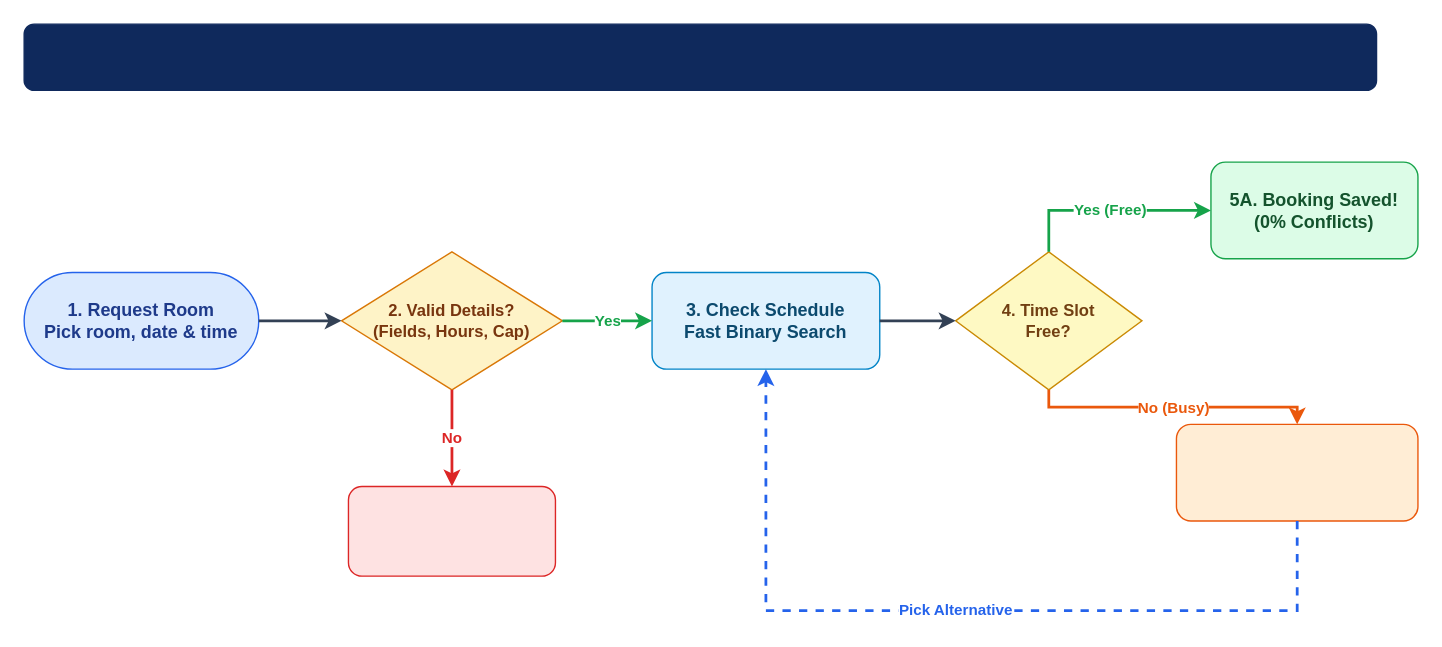
Image size: 1442x647. Some labels were removed from this diagram. Here are the shapes that lost their labels. From the top down, the box of each, then its label:
(23, 23, 1377, 90): BAKANTE — How Room Booking Works
(1175, 423, 1418, 521): 5B. Suggest Best-Fit Room or Open Time
(347, 485, 555, 576): Block Bad Input (0% Errors)
